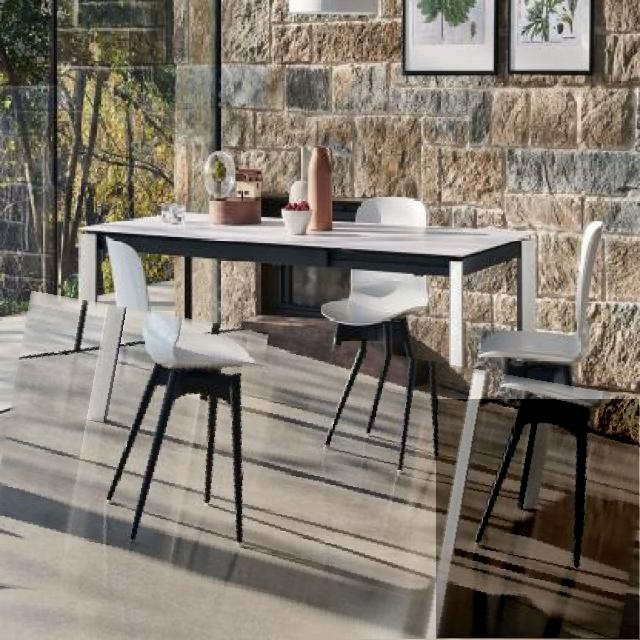floor: (0, 329, 469, 640), (437, 400, 639, 639)
